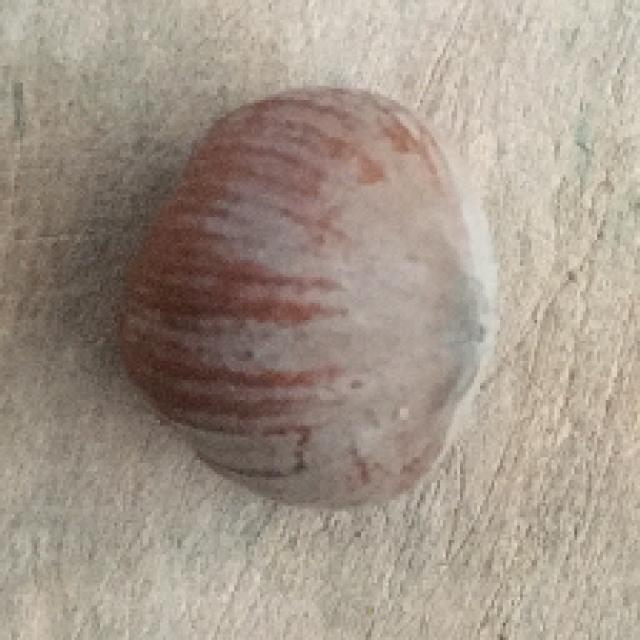qualityHazelnut: (110, 86, 500, 526)
